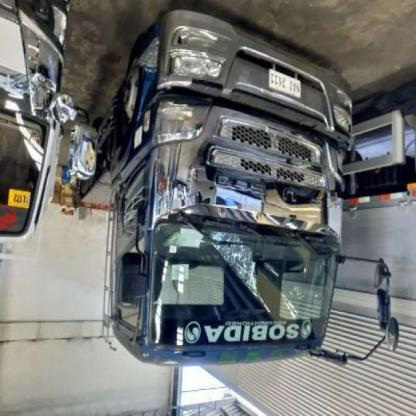truck: (79, 8, 403, 368)
